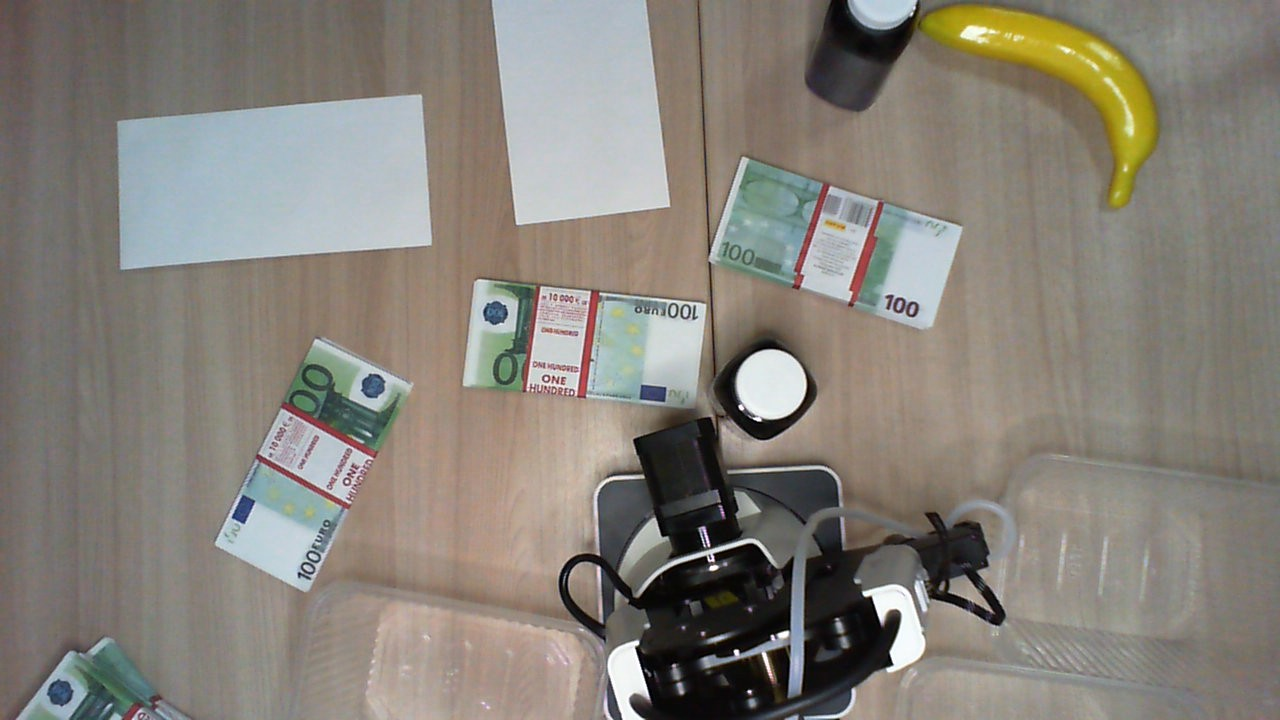bottle: (920, 4, 1159, 213), (713, 335, 819, 440), (830, 1, 920, 47)
convert: (117, 93, 434, 273), (490, 1, 673, 224)
money: (213, 337, 416, 592), (708, 155, 966, 327), (461, 278, 709, 410), (16, 633, 191, 720)
